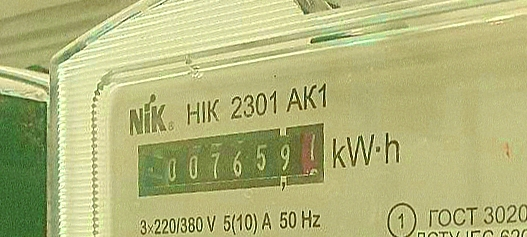0: (165, 153, 180, 182), (186, 152, 201, 180)
1: (305, 131, 319, 163)
5: (253, 141, 270, 173)
6: (231, 146, 245, 178)
7: (207, 147, 223, 180)
9: (277, 139, 294, 174)
screen: (121, 106, 347, 212)
